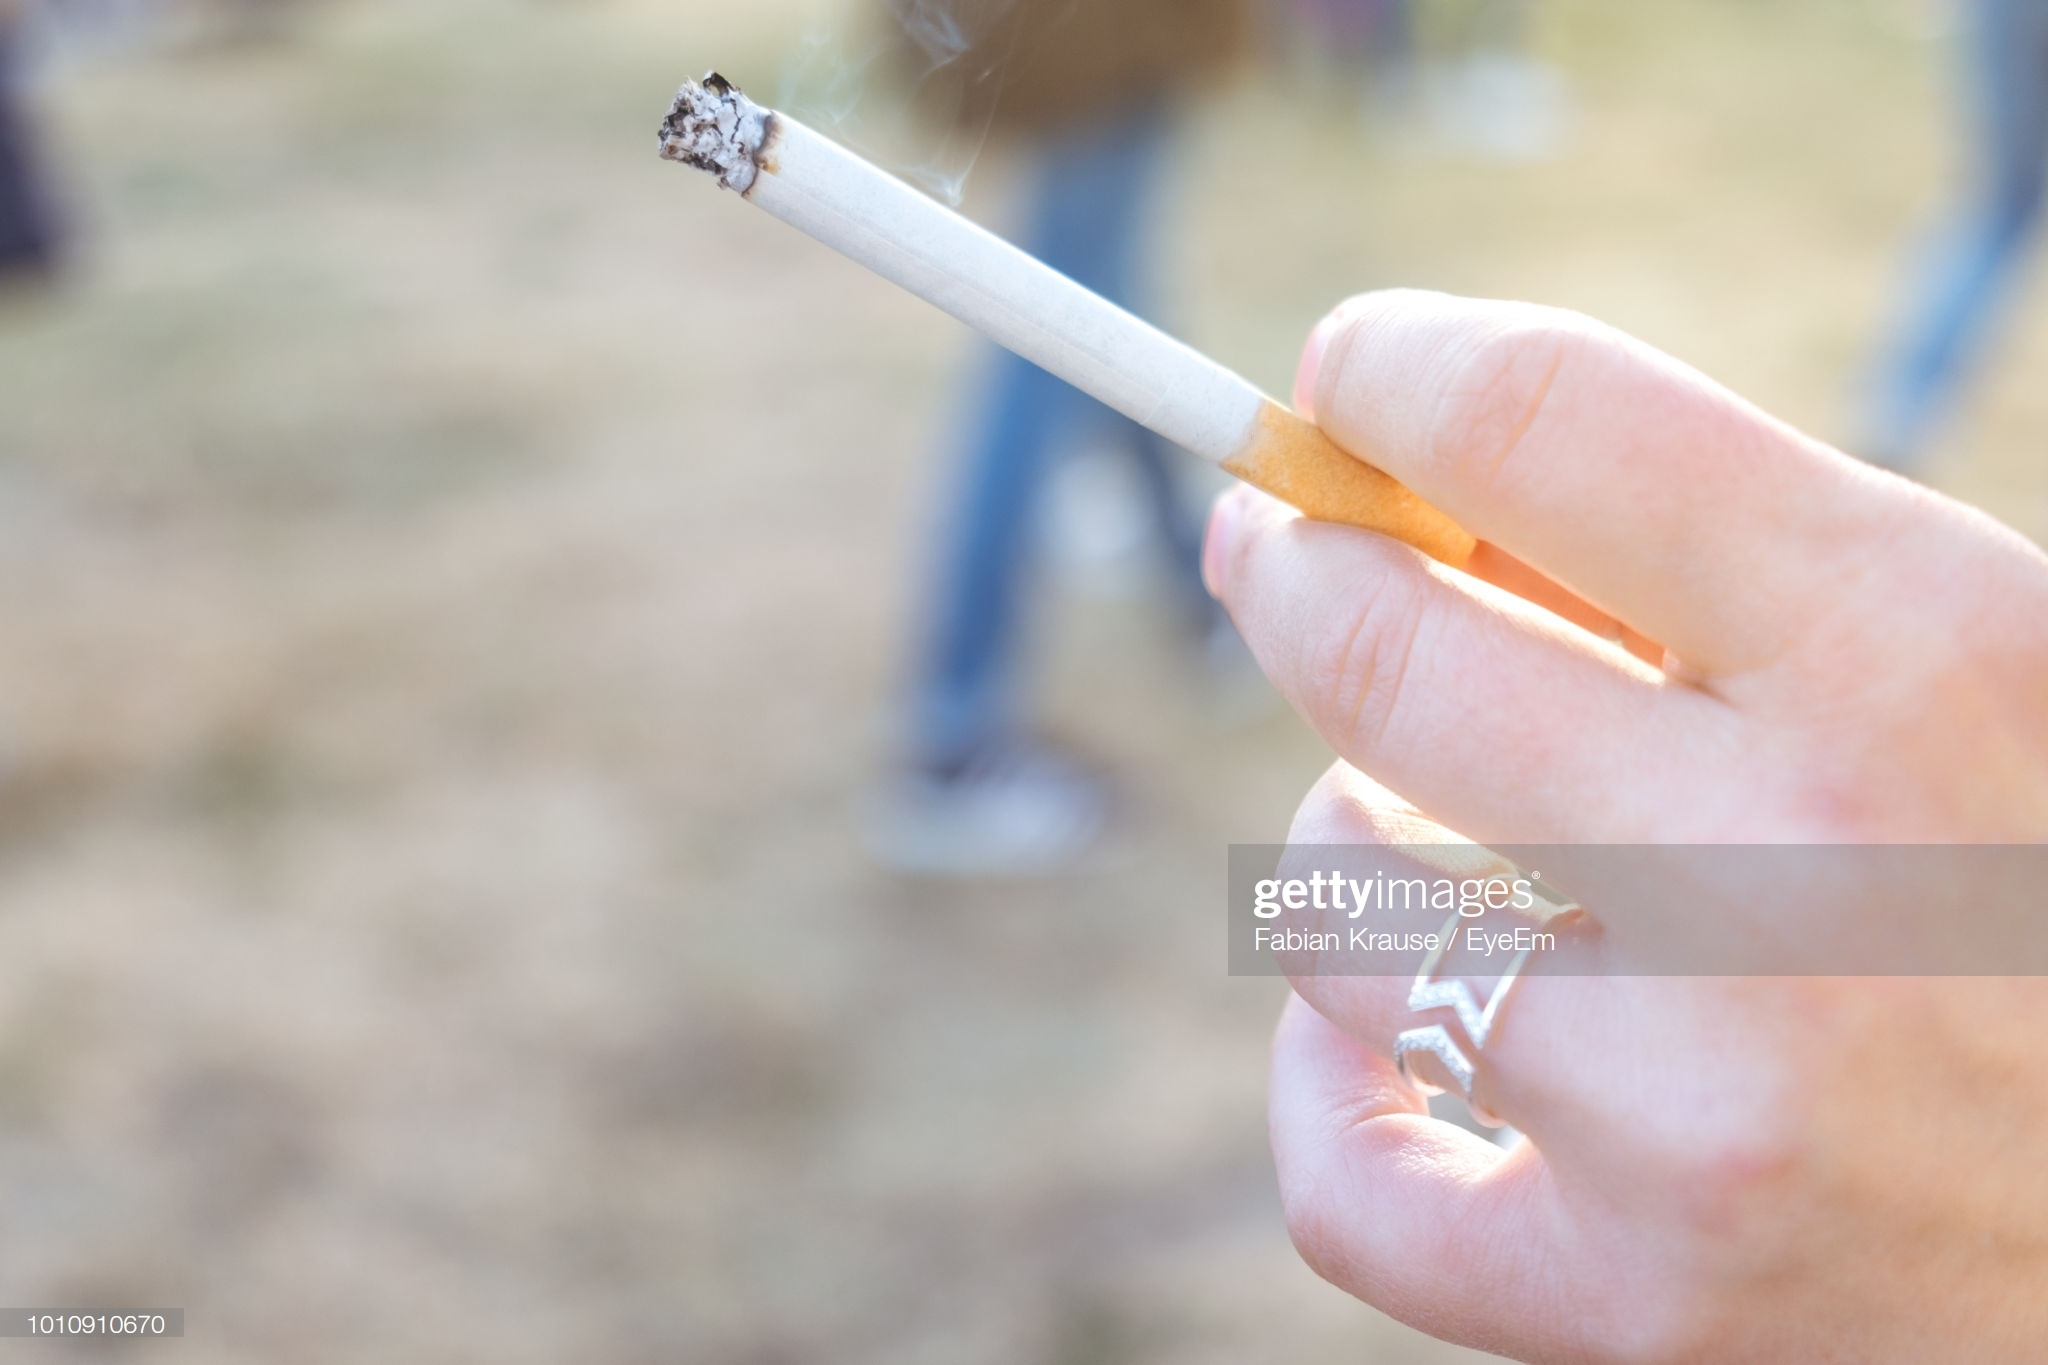sigaretta: (672, 69, 1488, 573)
